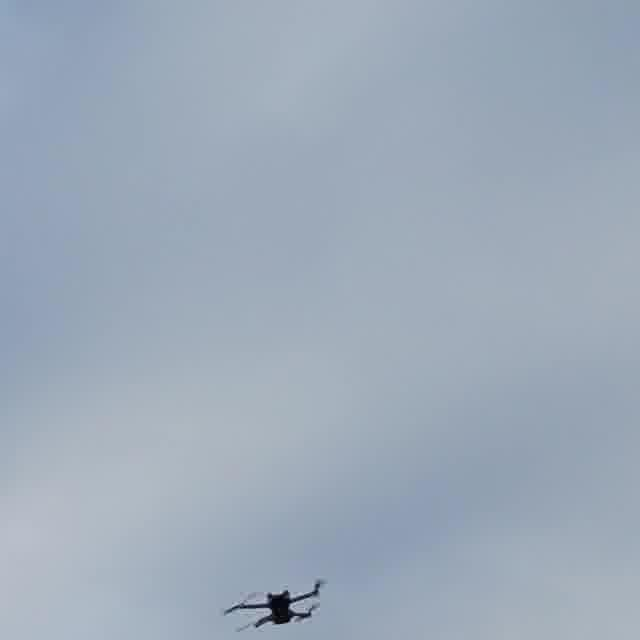Drohne: (224, 580, 323, 630)
